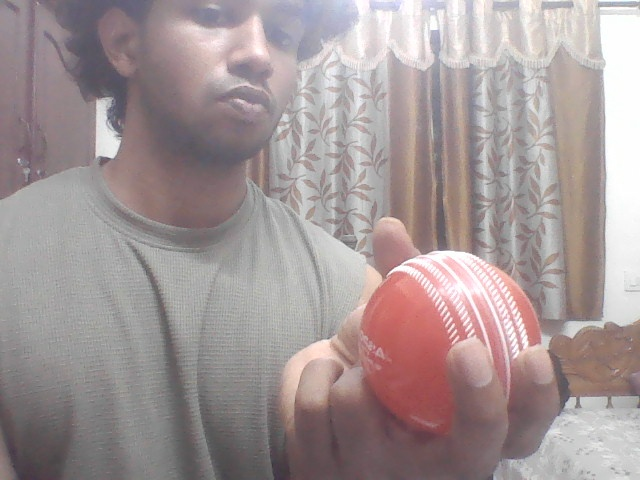cricket_ball: (360, 249, 544, 438)
